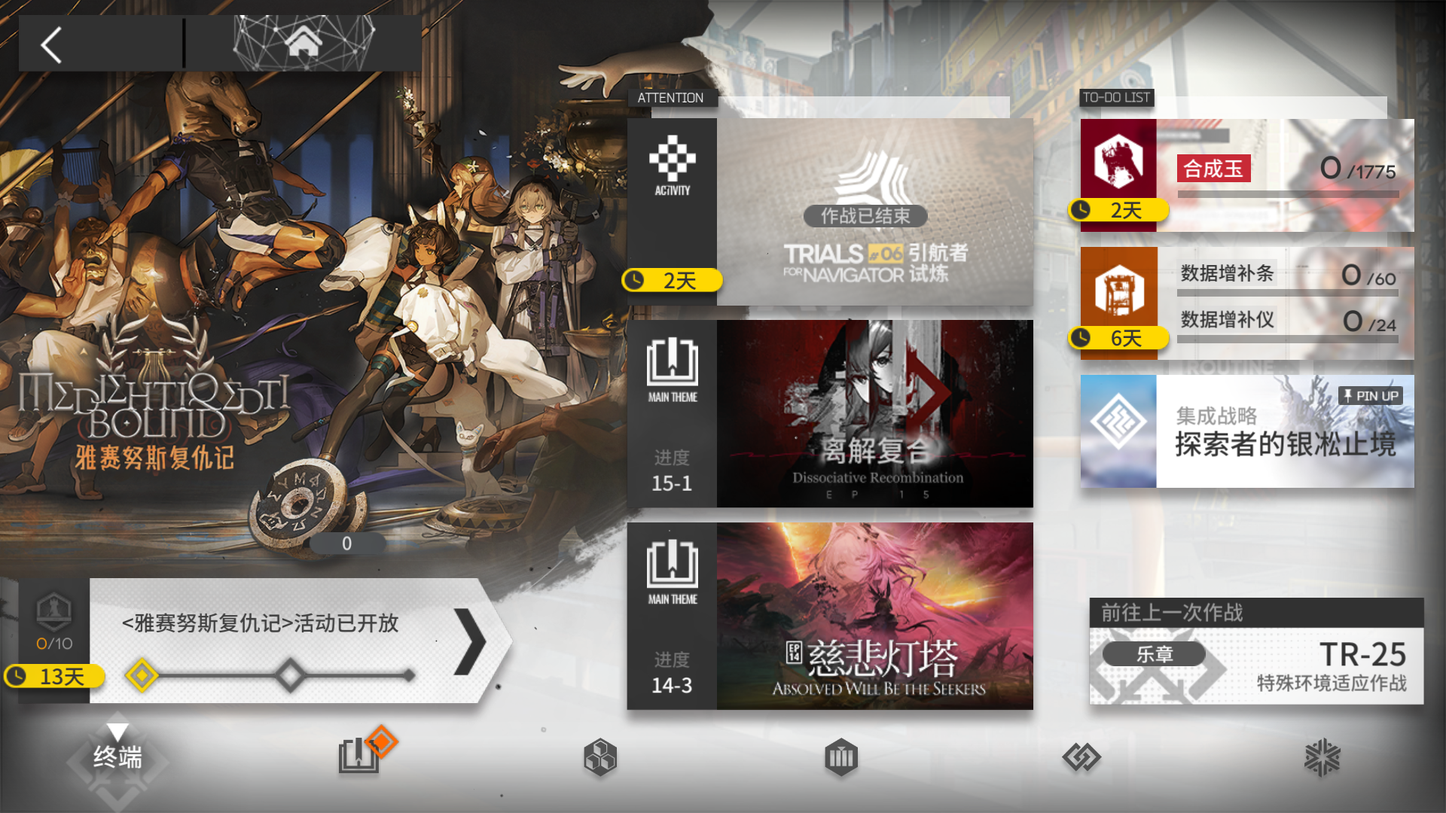Resource_Collection_Button: (544, 711, 689, 805)
Return_Button: (19, 16, 133, 69)
